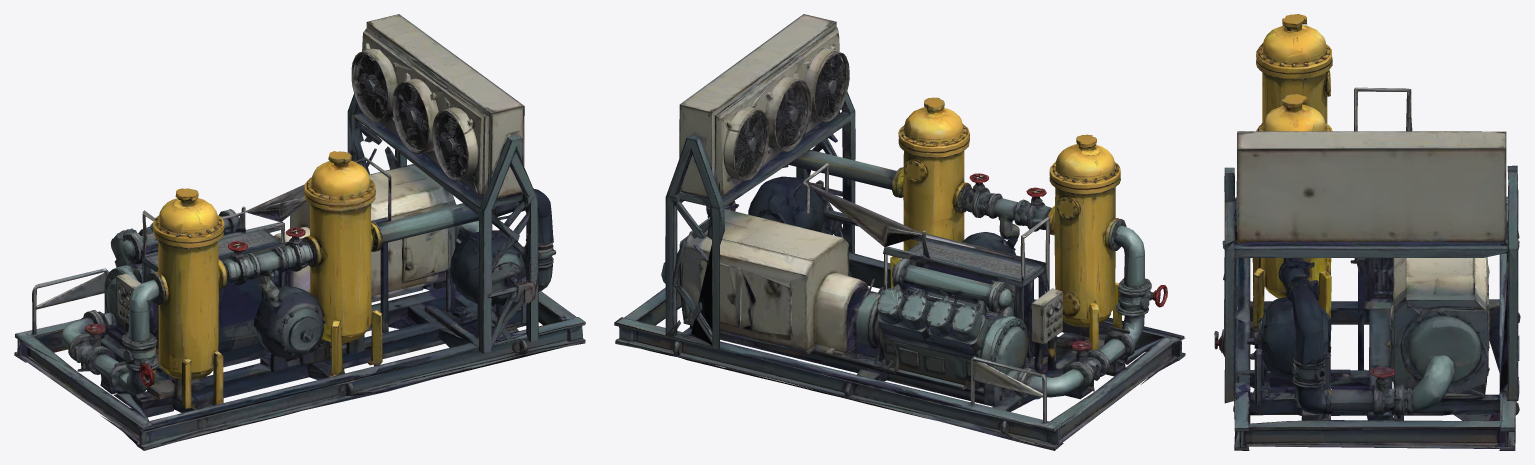
File: compressor.glb
3 views of the same model, side by side, from view 1: azimuth 30°, elevation 25°; view 2: azimuth 150°, elevation 25°; view 3: azimuth 270°, elevation 25° (orthographic). The views are drawn at different scales.
Bounding box in the file's own units: 1.9 × 1.03 × 1.05.
1 material, 1 textured.
